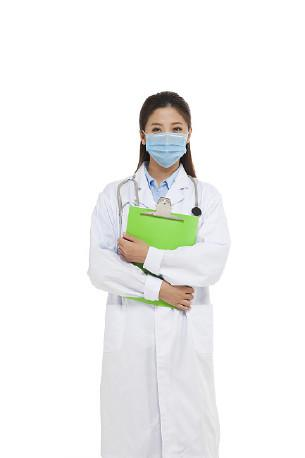OK: (142, 120, 191, 169)
